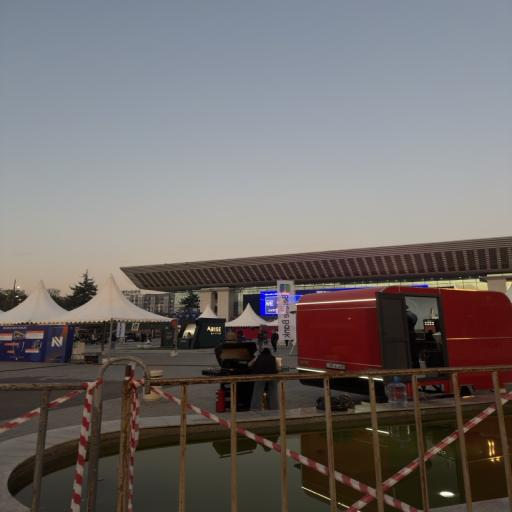chair: (117, 356, 512, 512), (0, 353, 153, 512)
laptop: (251, 381, 278, 410), (271, 330, 278, 352)
